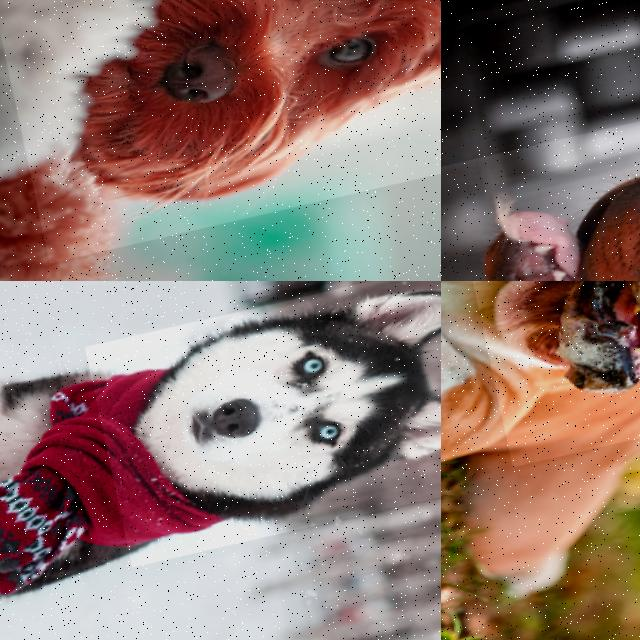bulldog: (443, 281, 640, 469)
husky: (81, 281, 441, 570)
poodle: (0, 0, 441, 266)
rottweiler: (441, 90, 640, 281)
